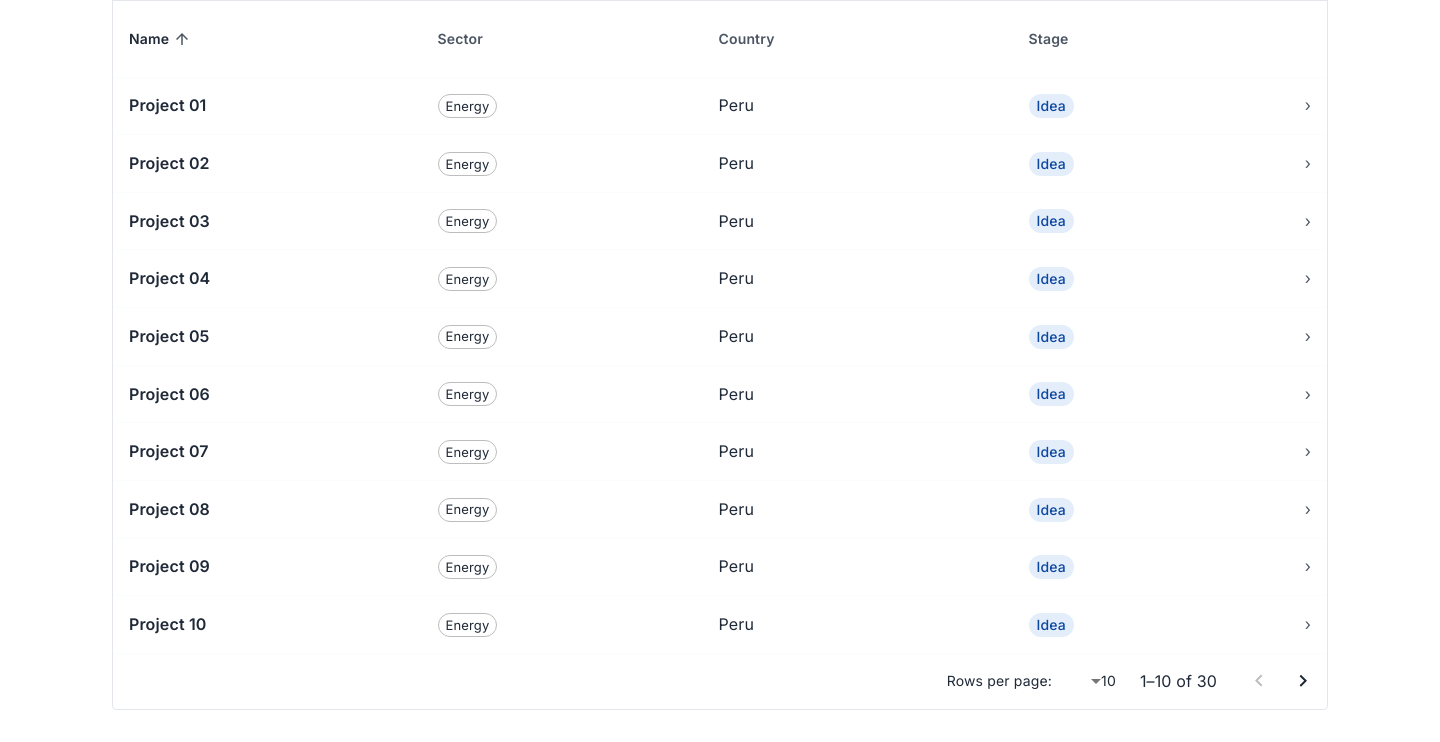
Test: ProjectList › the rows-per-page menu offers 10, 25 and 50 and 25 shows 25 rows
(page scrolled)
Expected: the link "Project 01" is shown, [129, 96, 206, 116]
Click the dropdown named "rows per page" at {"x": 1108, "y": 680}, box [1101, 672, 1116, 689]
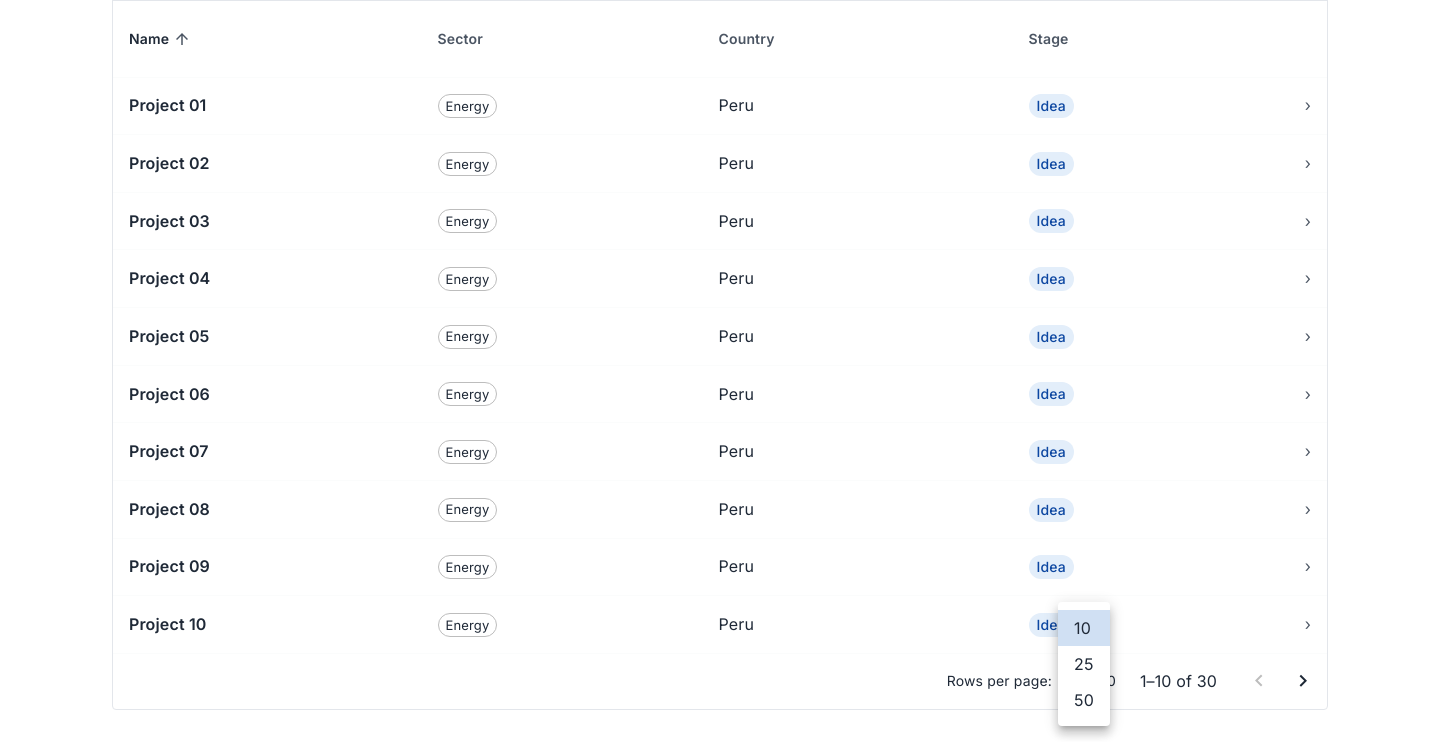
Expected: the options read "10", "25", "50", in this order
Click the option "25" at {"x": 1084, "y": 664}, box [1074, 654, 1094, 674]
(page scrolled)
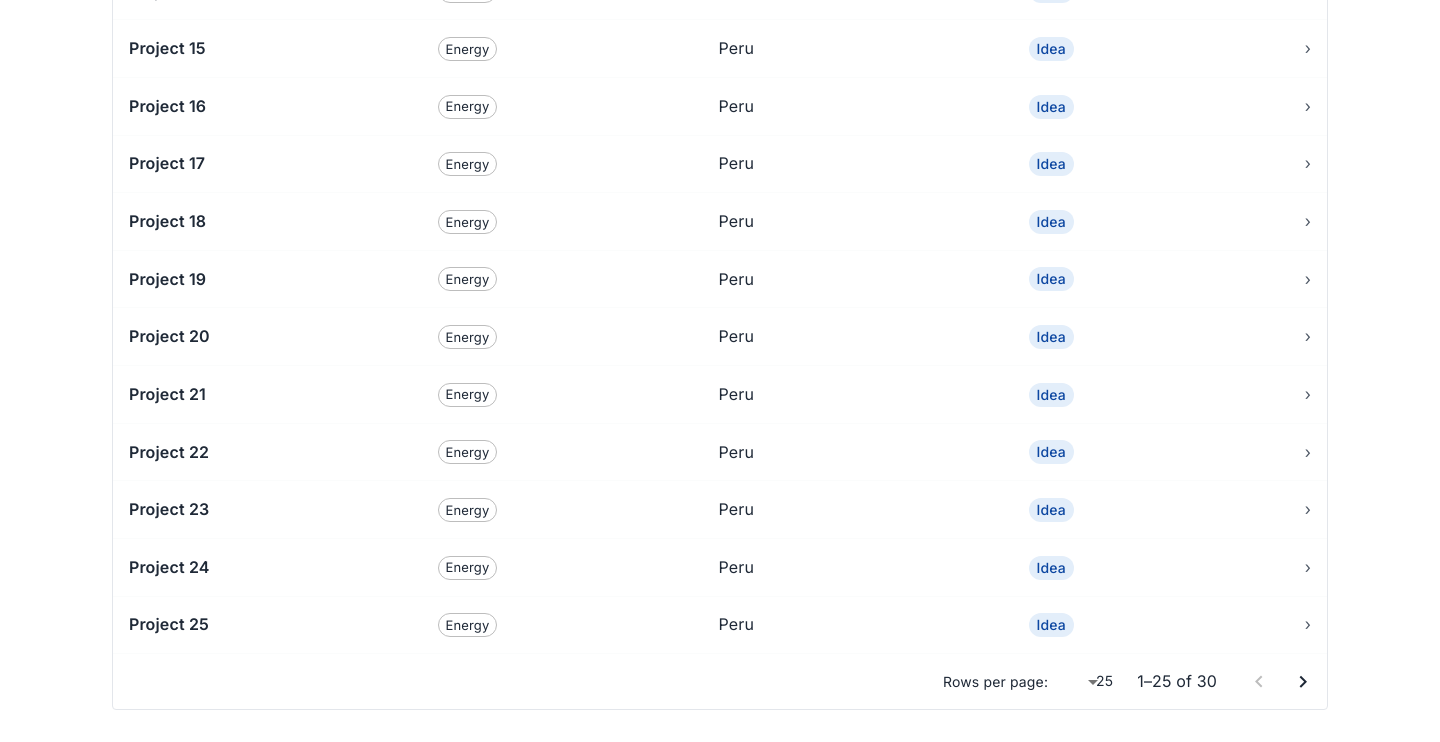
Expected: the text "1–25 of 30" is shown, [1137, 670, 1217, 693]
